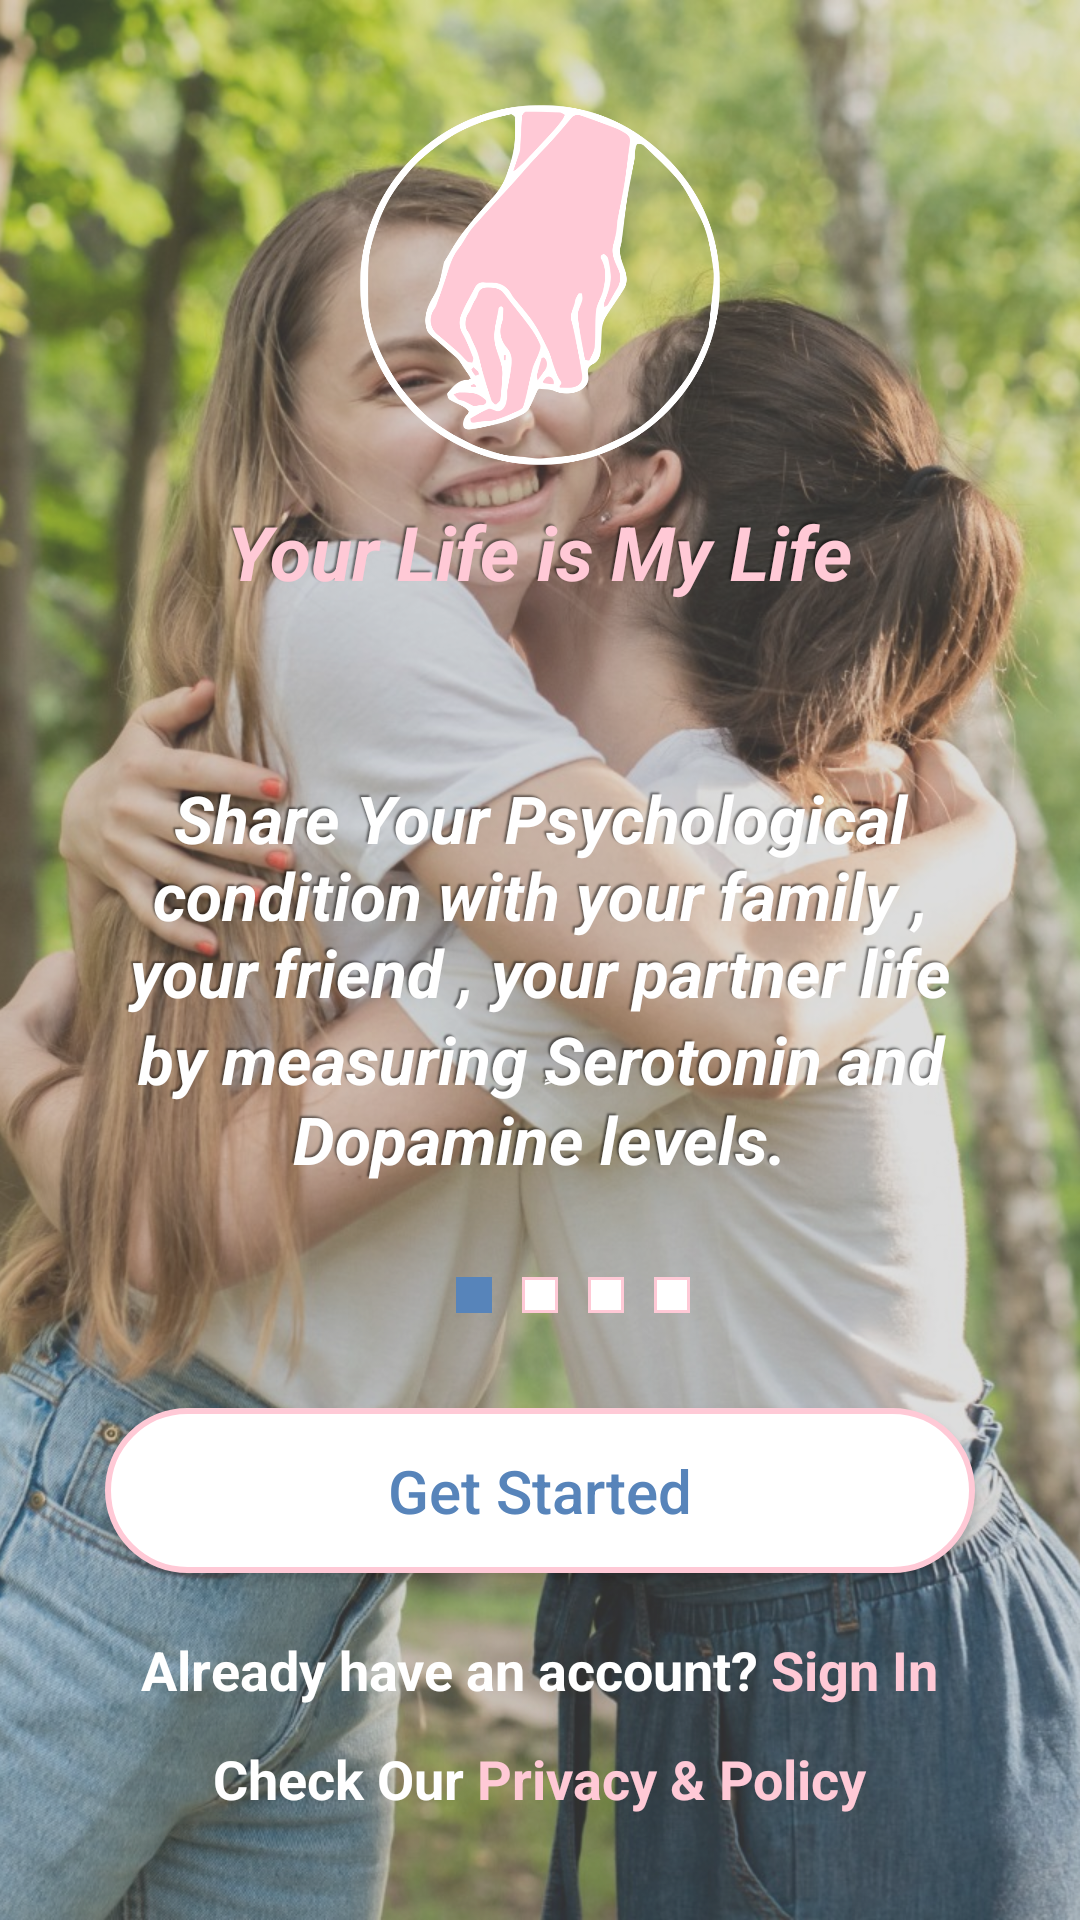

Point at icon controls on the screen. Image size 1080*1920, points as [x,y].
hands tran: [540,285]
